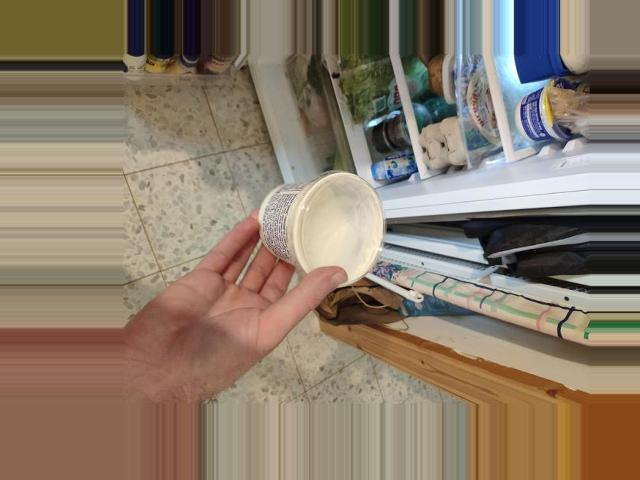cotage: (259, 174, 379, 273)
